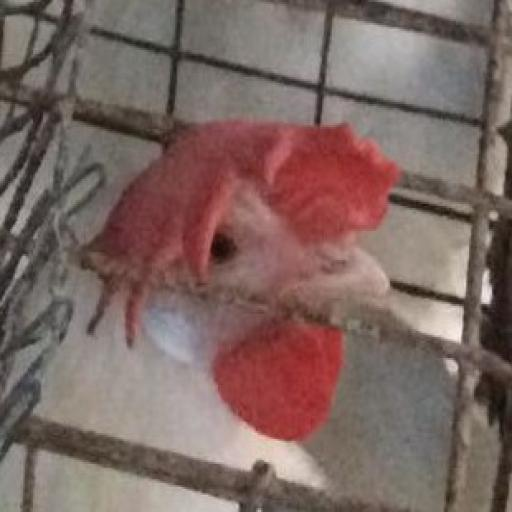healthy: (127, 135, 351, 373)
